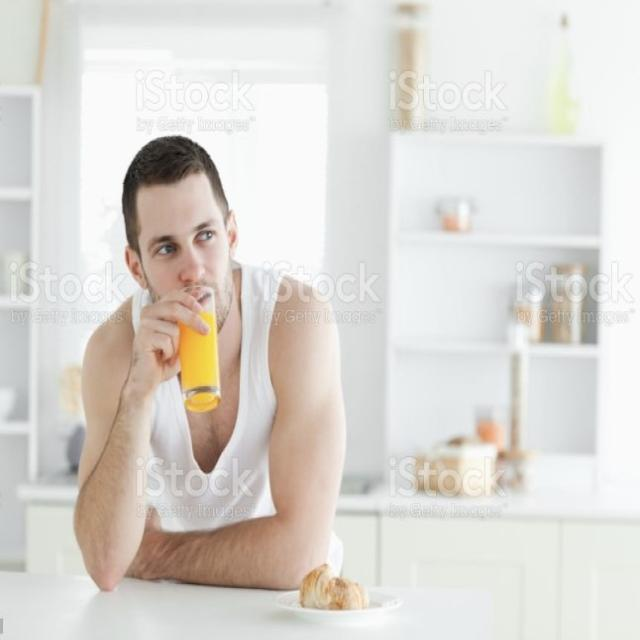eating-person: (69, 121, 404, 617)
